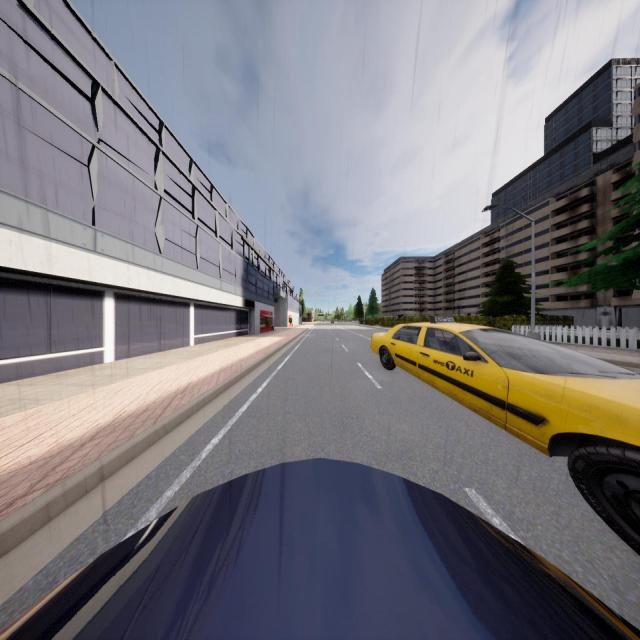Vehicle: (1, 456, 640, 640), (370, 316, 640, 554), (331, 320, 334, 324)
